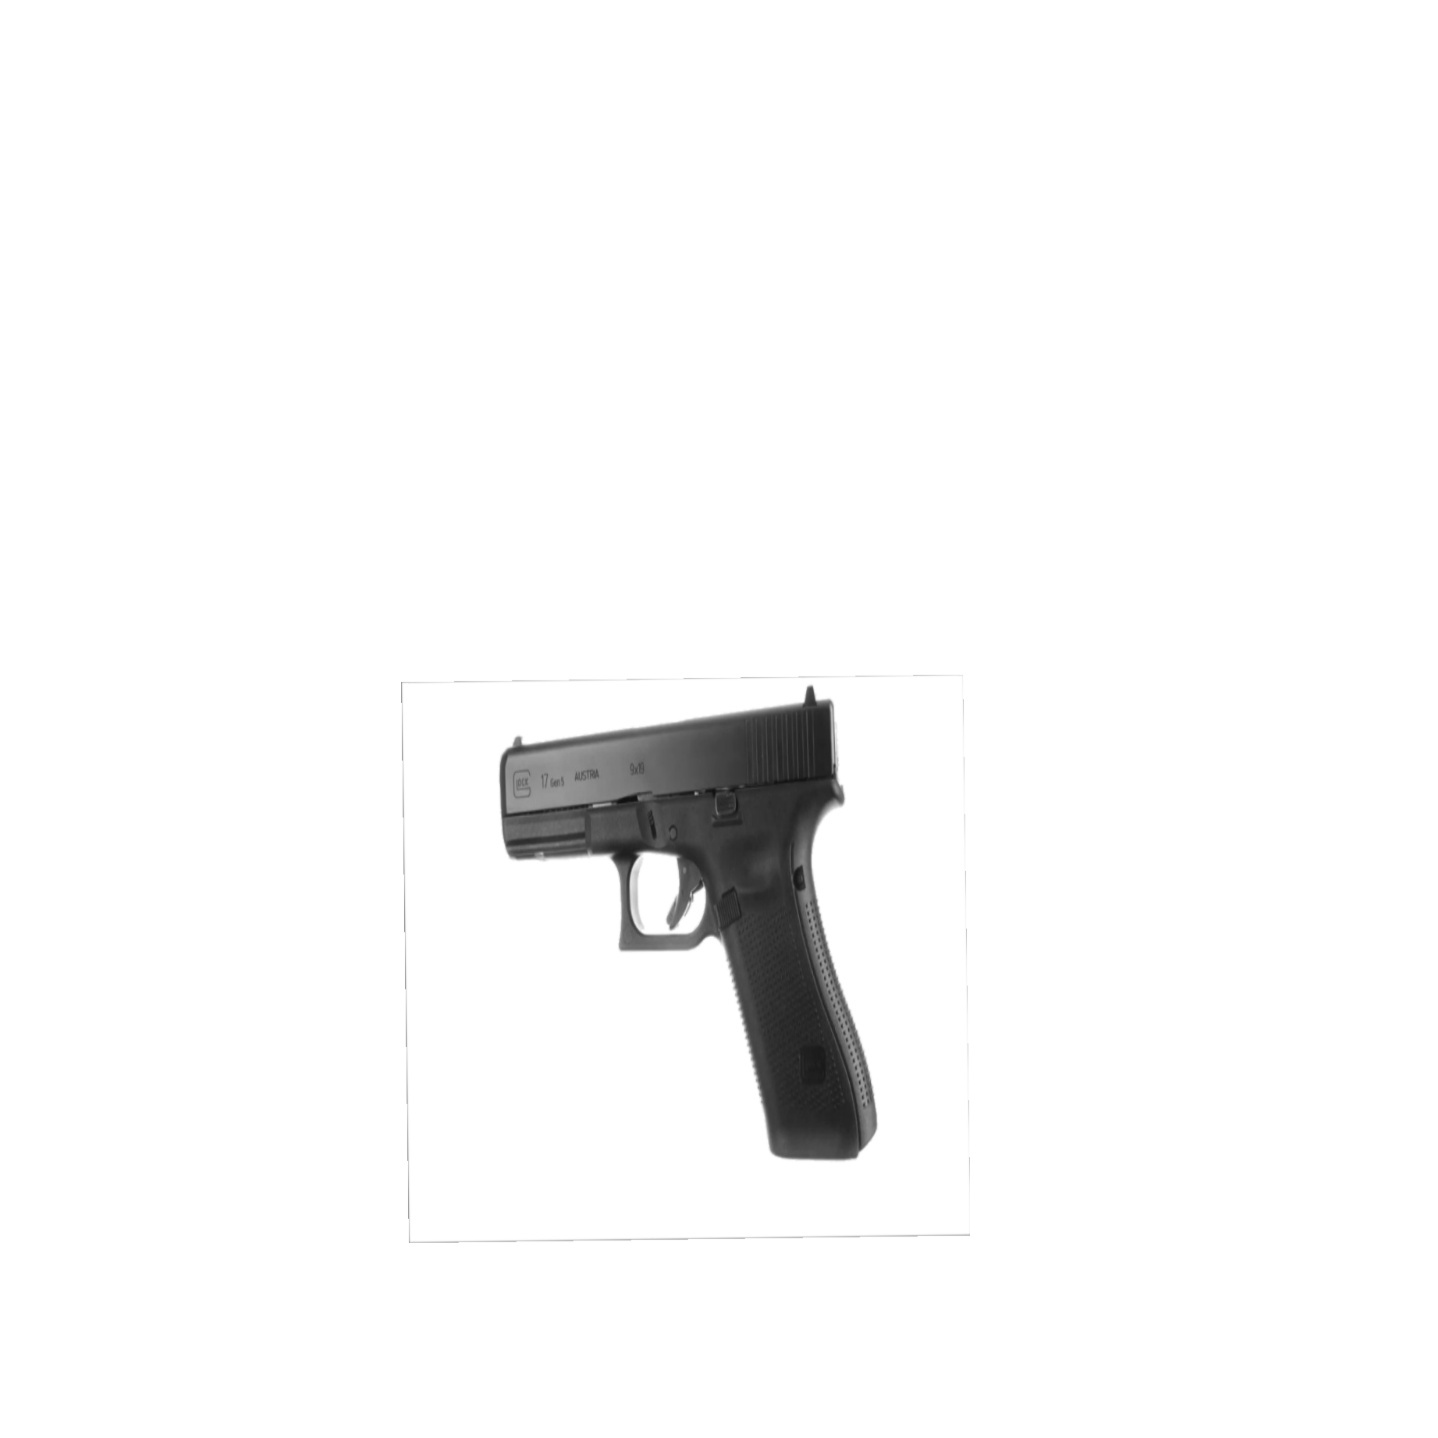gun: (490, 679, 894, 1177)
